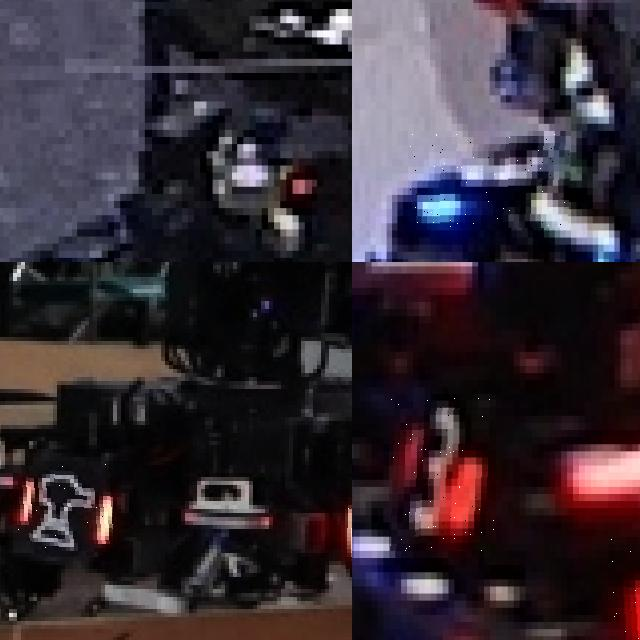B3: (408, 131, 571, 230)
R3: (389, 394, 496, 551)
Rs: (13, 461, 113, 557)
